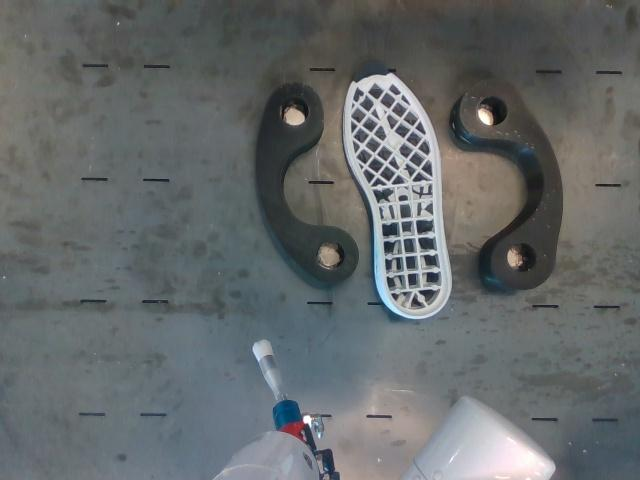shoes: (345, 61, 450, 316)
